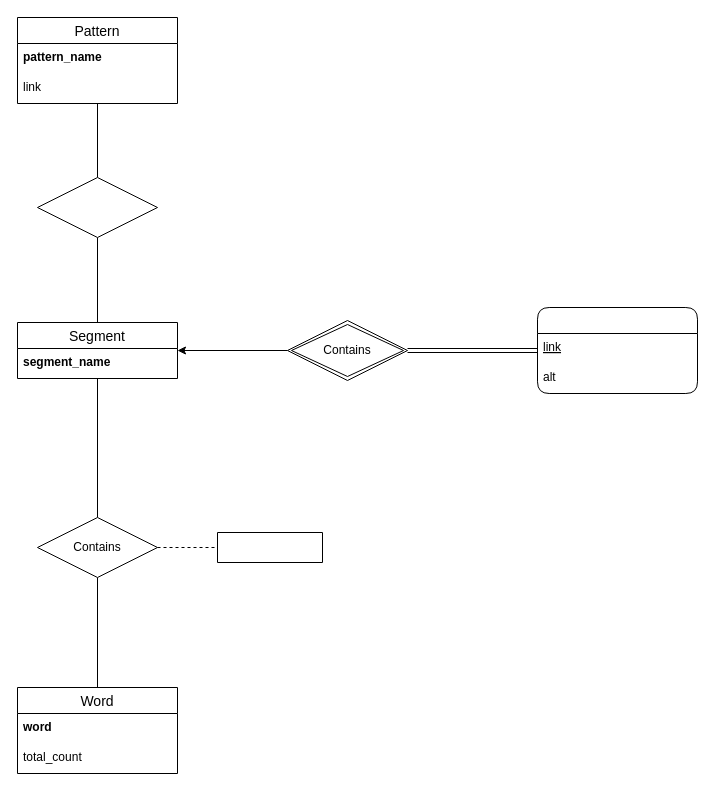
The diagram is 715 pixels wide and 794 high, and some of its shapes have lost their labels. The box of each missing label's shape, as (x1, y1, x2, y2) in pixels:
count: (216, 532, 322, 562)
Has: (36, 176, 158, 238)
Image: (536, 306, 698, 394)
